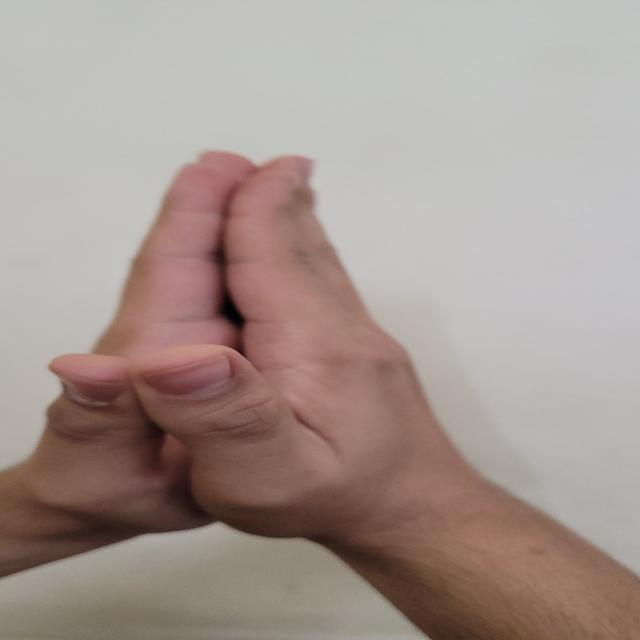Thank You: (30, 143, 543, 561)
